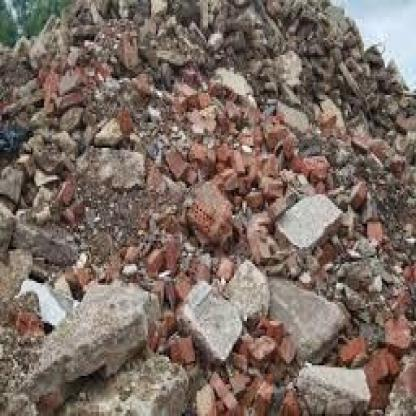brick: (0, 1, 414, 414)
